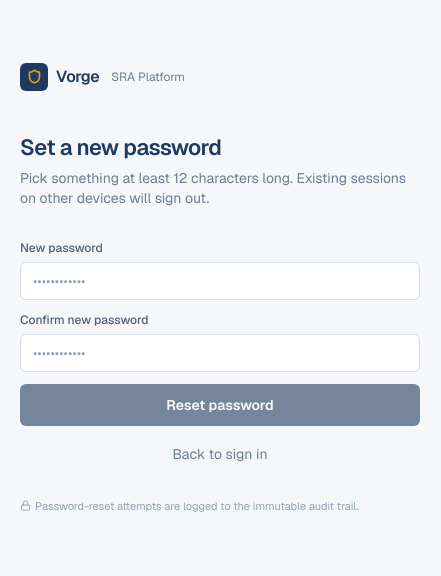
it: ResetPasswordPage › server 400 PASSWORD_TOO_SHORT surfaces inline validation message
Type "Twelve12345!" into the password field labelled "New password".
click(220, 281); type("Twelve12345!")  # box [20,262,420,300]
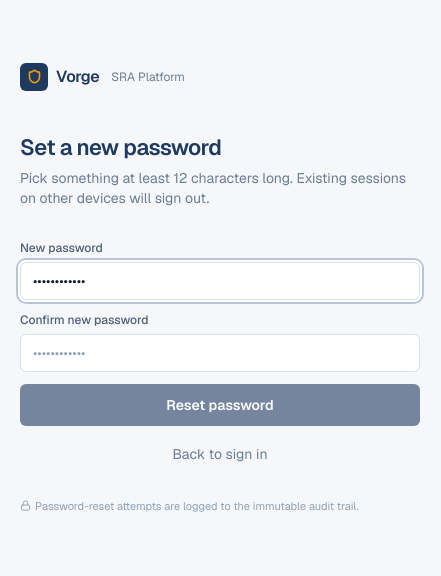
Type "Twelve12345!" into the password field labelled "Confirm new password".
click(220, 353); type("Twelve12345!")  # box [20,334,420,372]
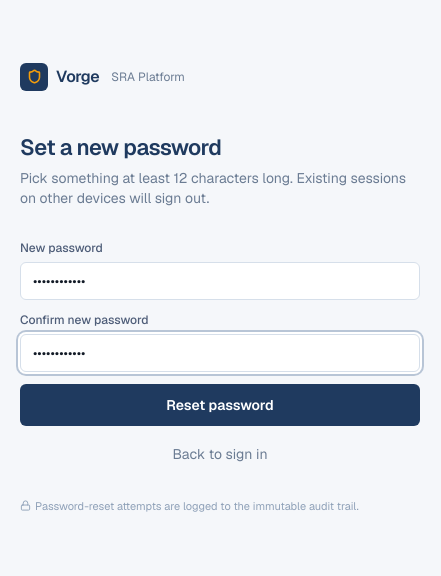
Click the button "Reset password".
click(220, 405)  # box [20,384,420,426]
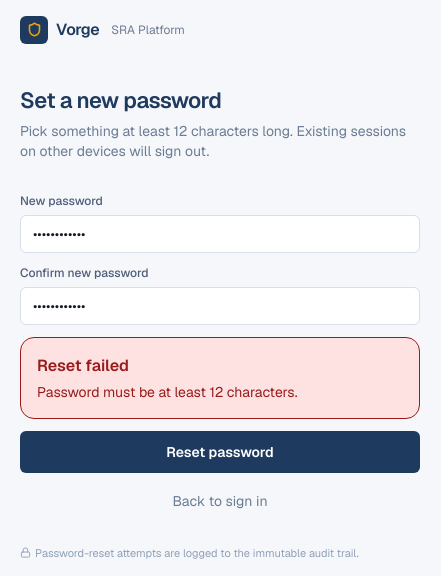
Expected: the text "Reset failed" is shown, [37,355,129,376]
